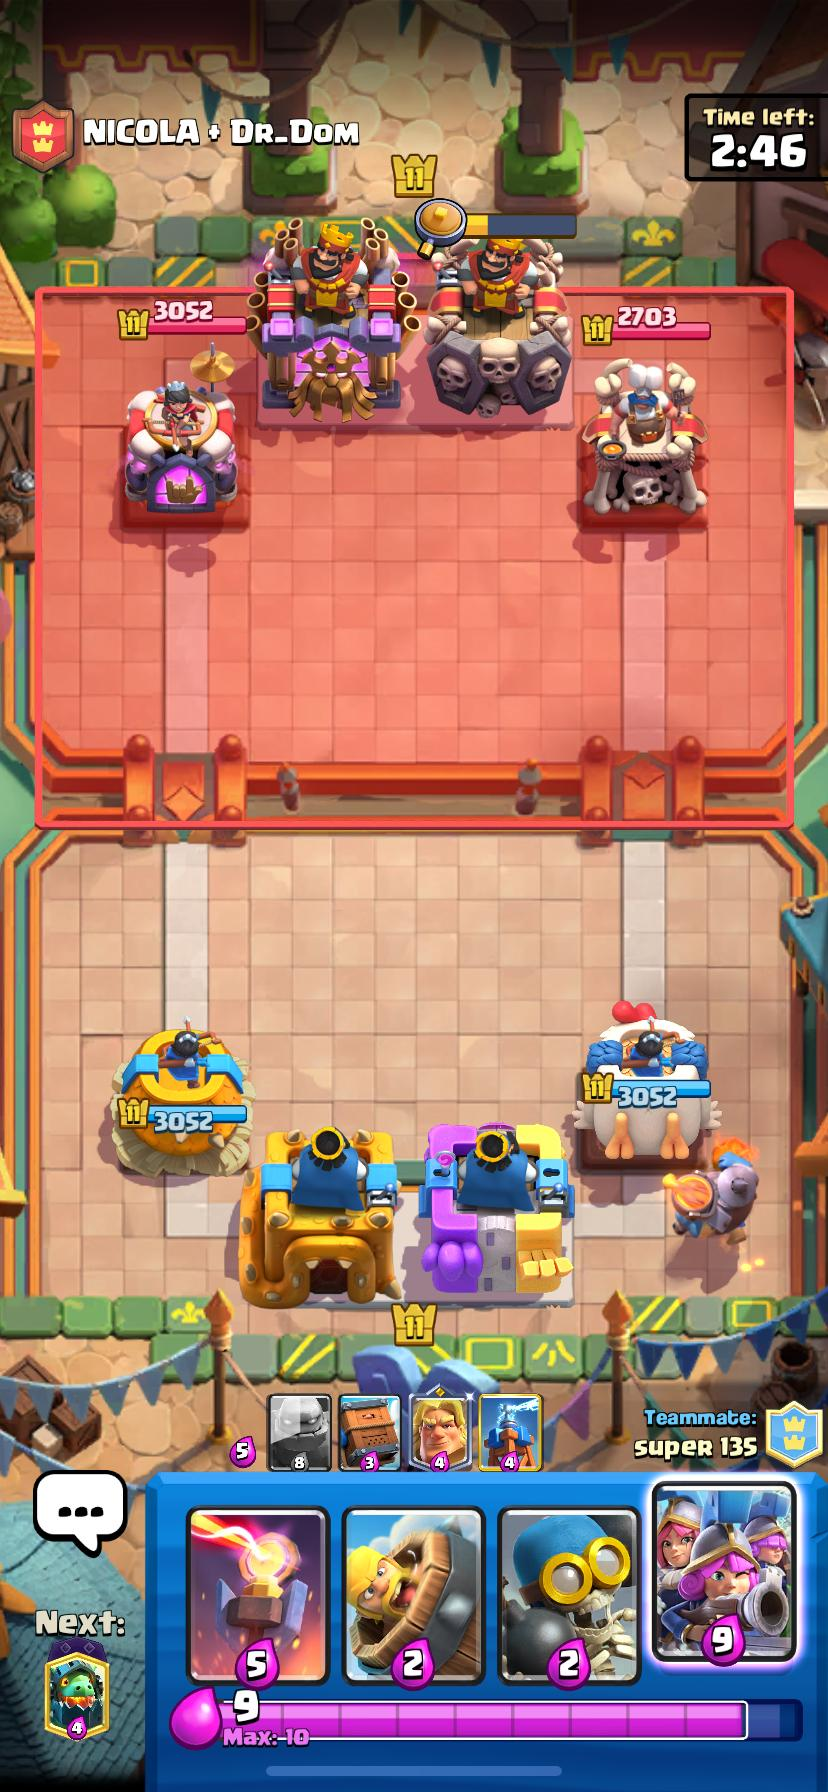EKingTower: (247, 221, 415, 419), (425, 238, 570, 418)
EnemyPanTower: (581, 360, 706, 514)
EnemyPrincessTower: (126, 381, 236, 513)
OFurnace: (664, 1151, 758, 1243)
OwnKingTower: (419, 1123, 573, 1299), (260, 1126, 401, 1305)
OwnPrincessTower: (114, 1024, 253, 1173), (578, 1016, 717, 1160)
